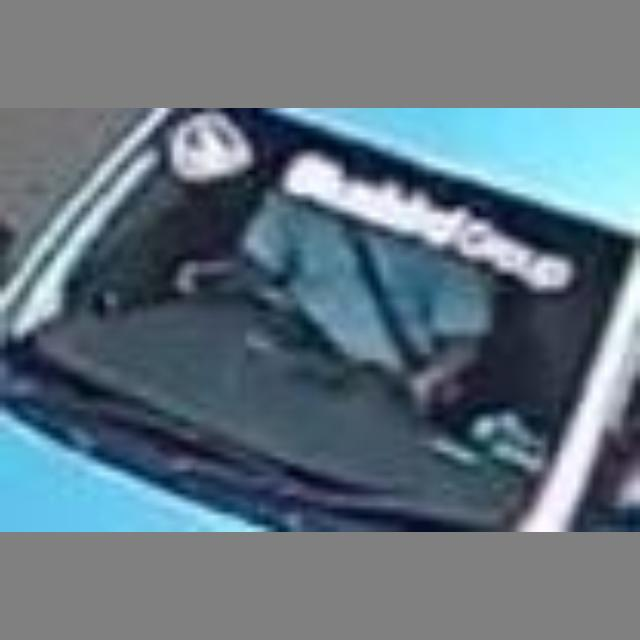pakai: (258, 163, 492, 416)
